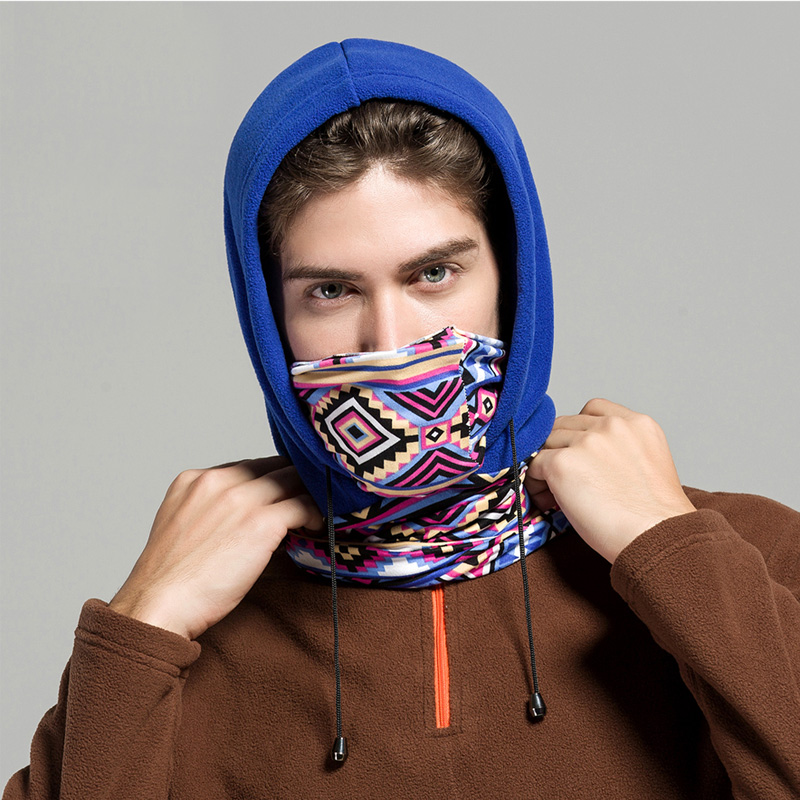face_mask: (274, 167, 497, 452)
